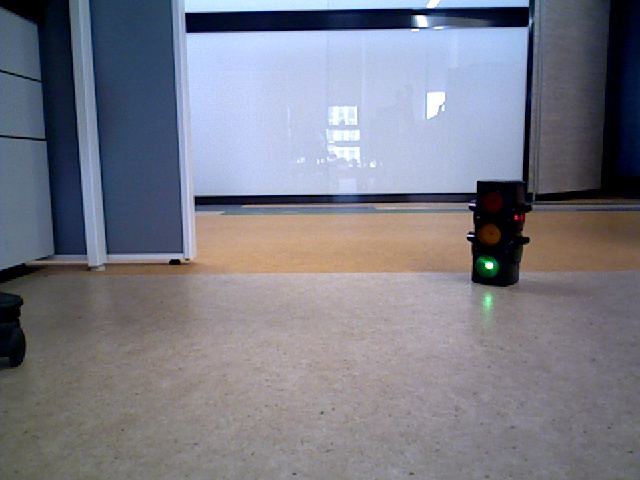green: (472, 182, 515, 281)
